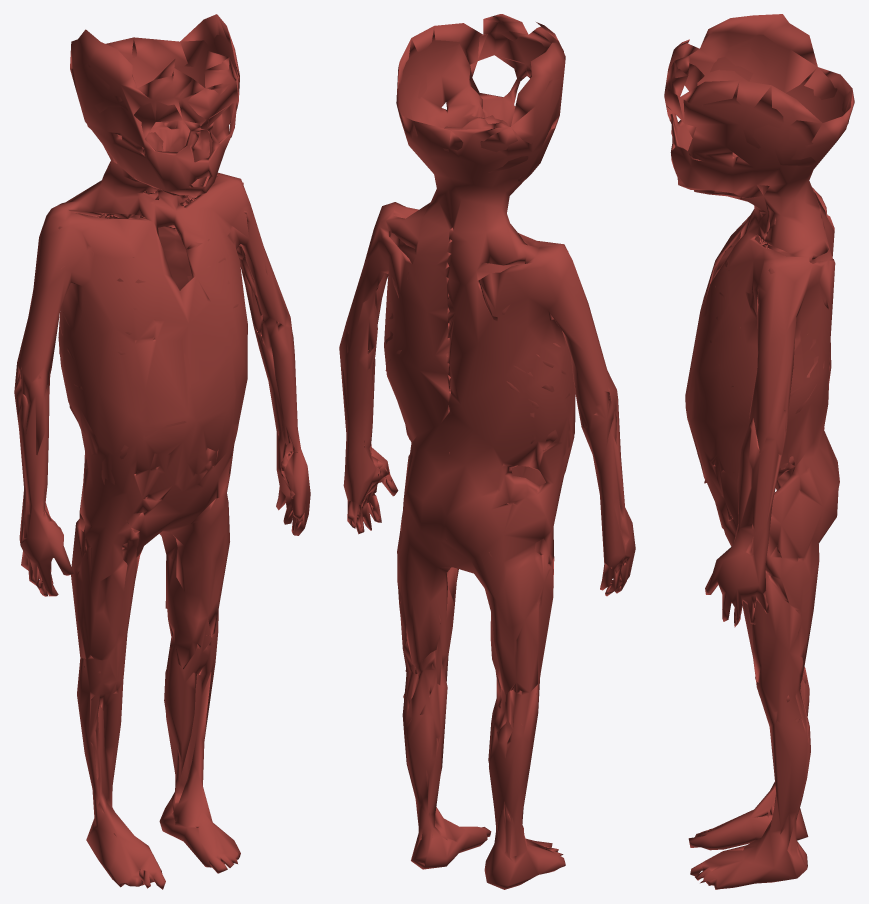
File: pediatric_infant_female.muscular.LOD3.glb
3 renders of one model, left to right at view 1: azimuth 30°, elevation 25°; view 2: azimuth 150°, elevation 25°; view 3: azimuth 270°, elevation 25°, orthographic.
Parts seen in each view (by area): view 1: PEDIATRIC.INFANT.FEMALE.MUSCULAR.MUSCLE; view 2: PEDIATRIC.INFANT.FEMALE.MUSCULAR.MUSCLE; view 3: PEDIATRIC.INFANT.FEMALE.MUSCULAR.MUSCLE.
Part boxes in pixels (bbox=[...]): PEDIATRIC.INFANT.FEMALE.MUSCULAR.MUSCLE: bbox=[14, 14, 310, 889]; PEDIATRIC.INFANT.FEMALE.MUSCULAR.MUSCLE: bbox=[339, 14, 635, 889]; PEDIATRIC.INFANT.FEMALE.MUSCULAR.MUSCLE: bbox=[664, 14, 854, 889].
Bounding box in the file's own units: 0.2571 × 0.7313 × 0.1542.
